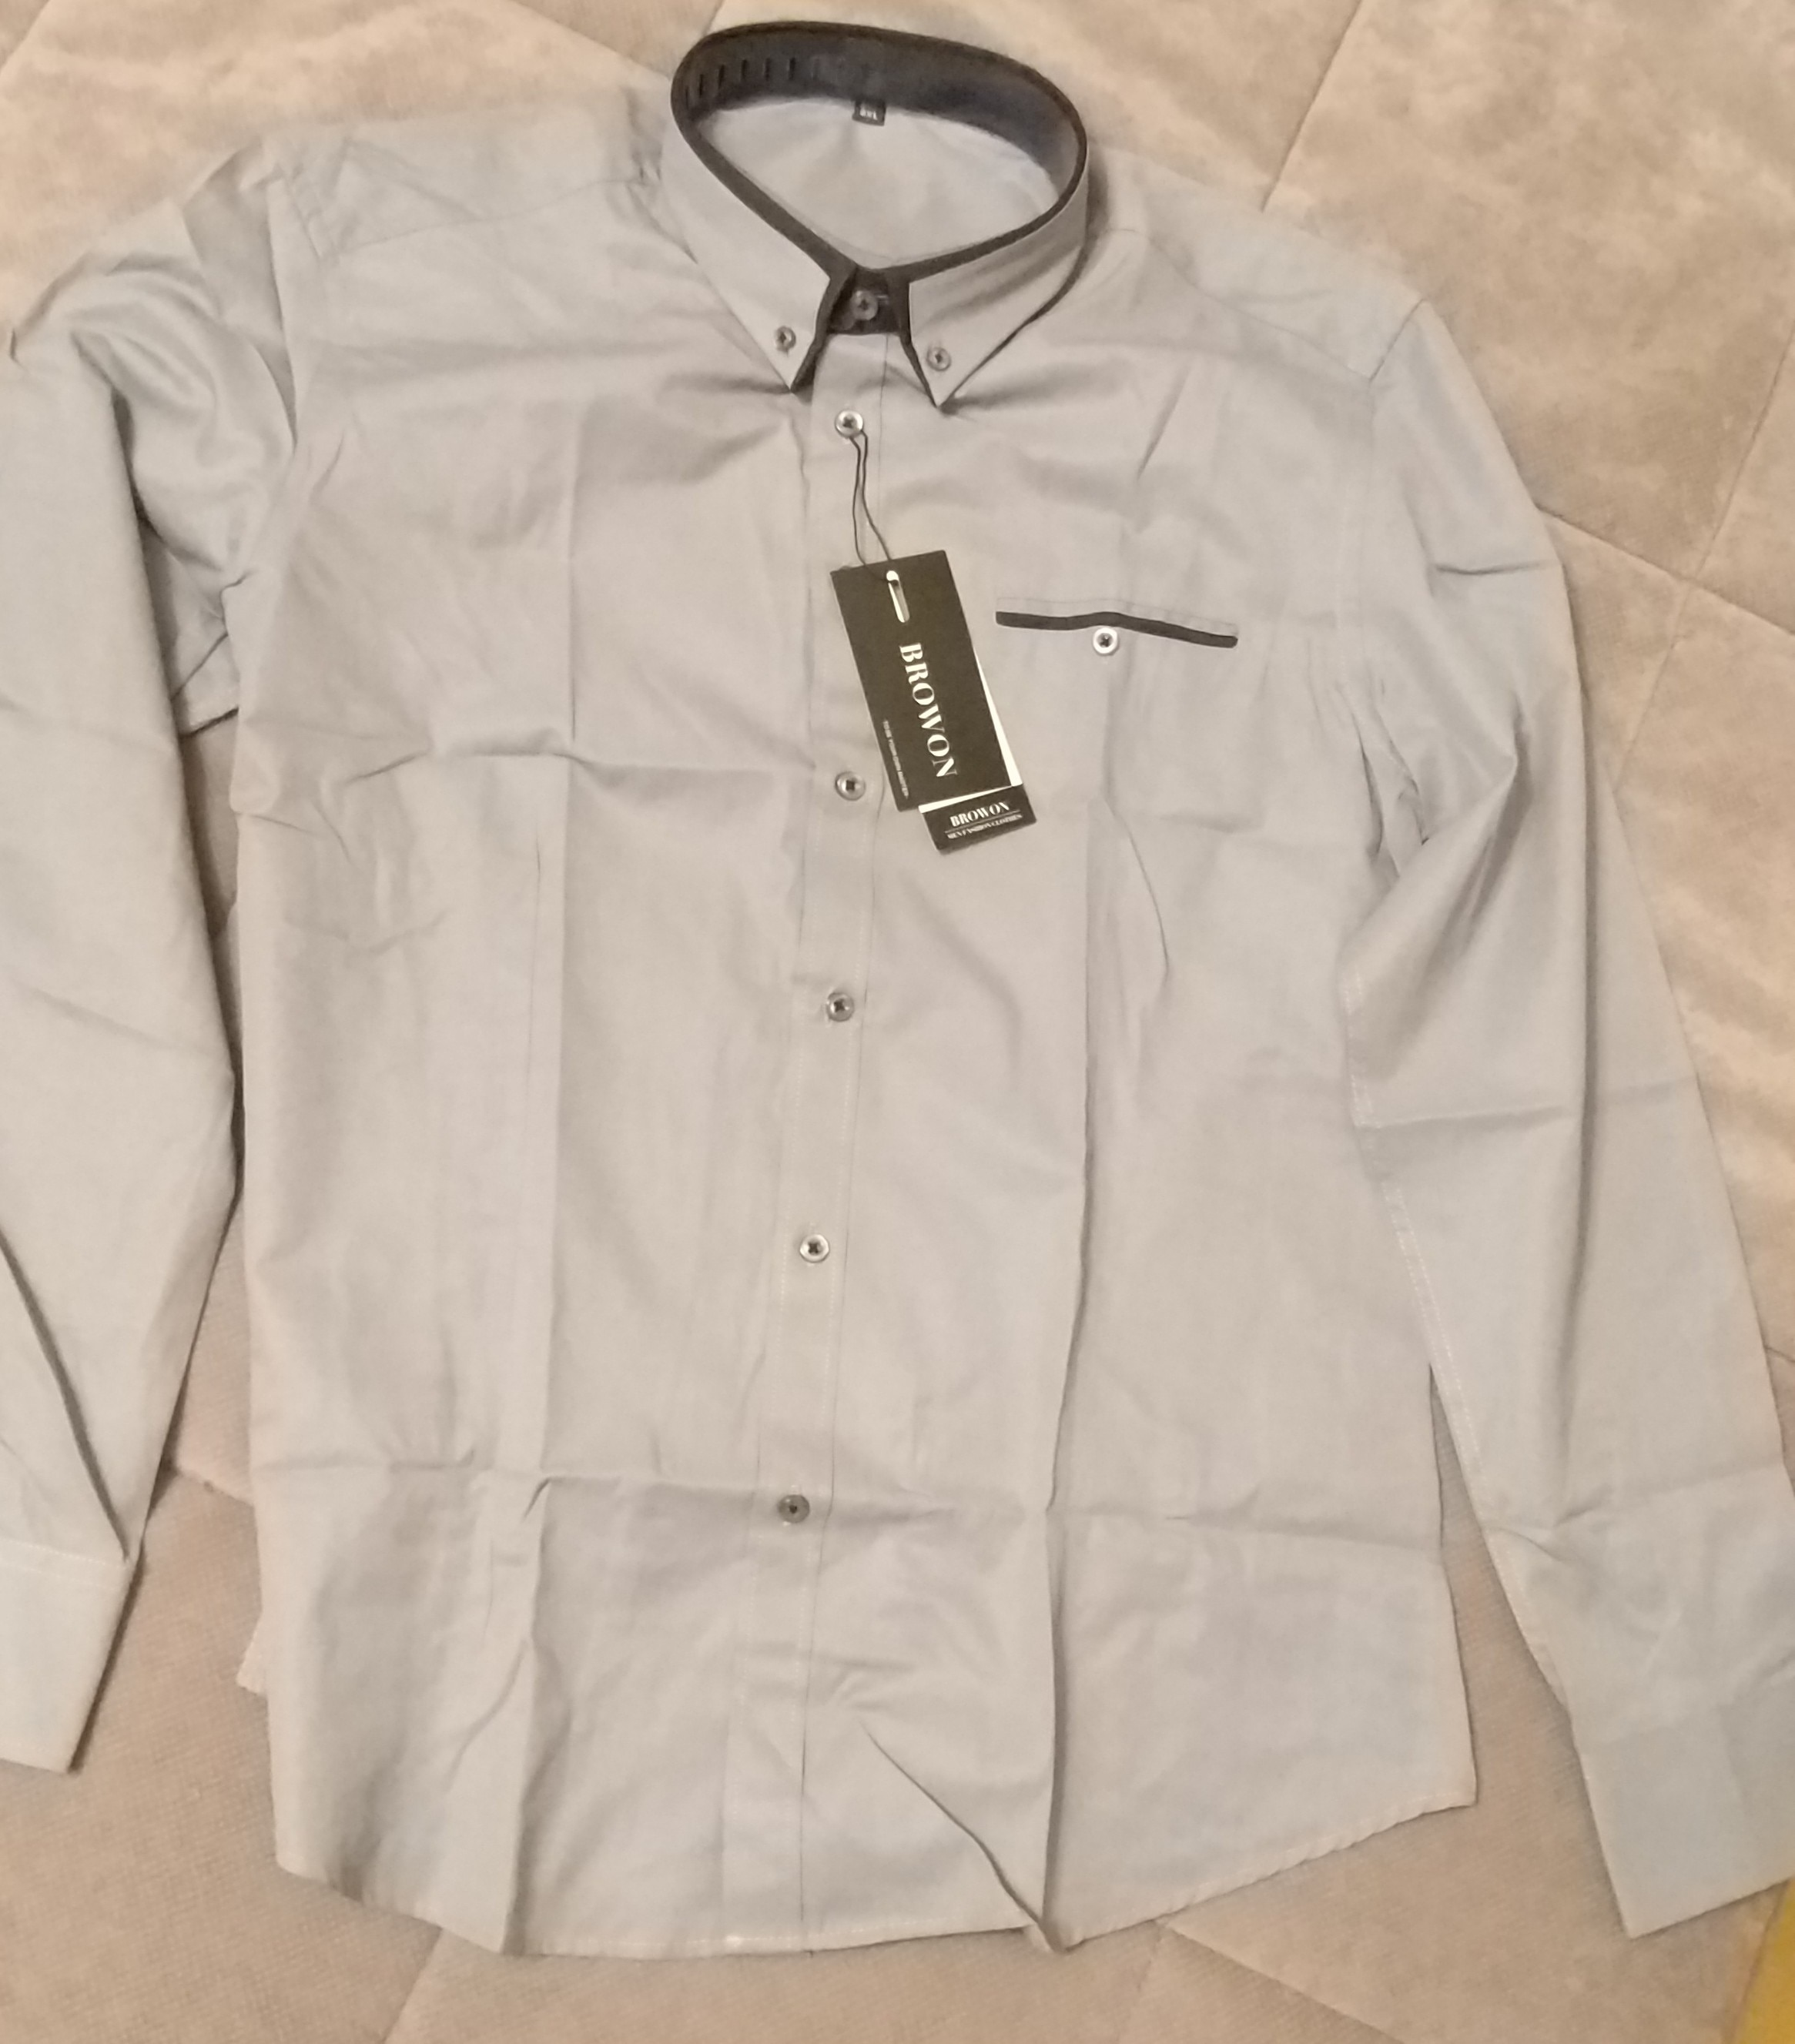shirts: (31, 24, 1781, 1943)
